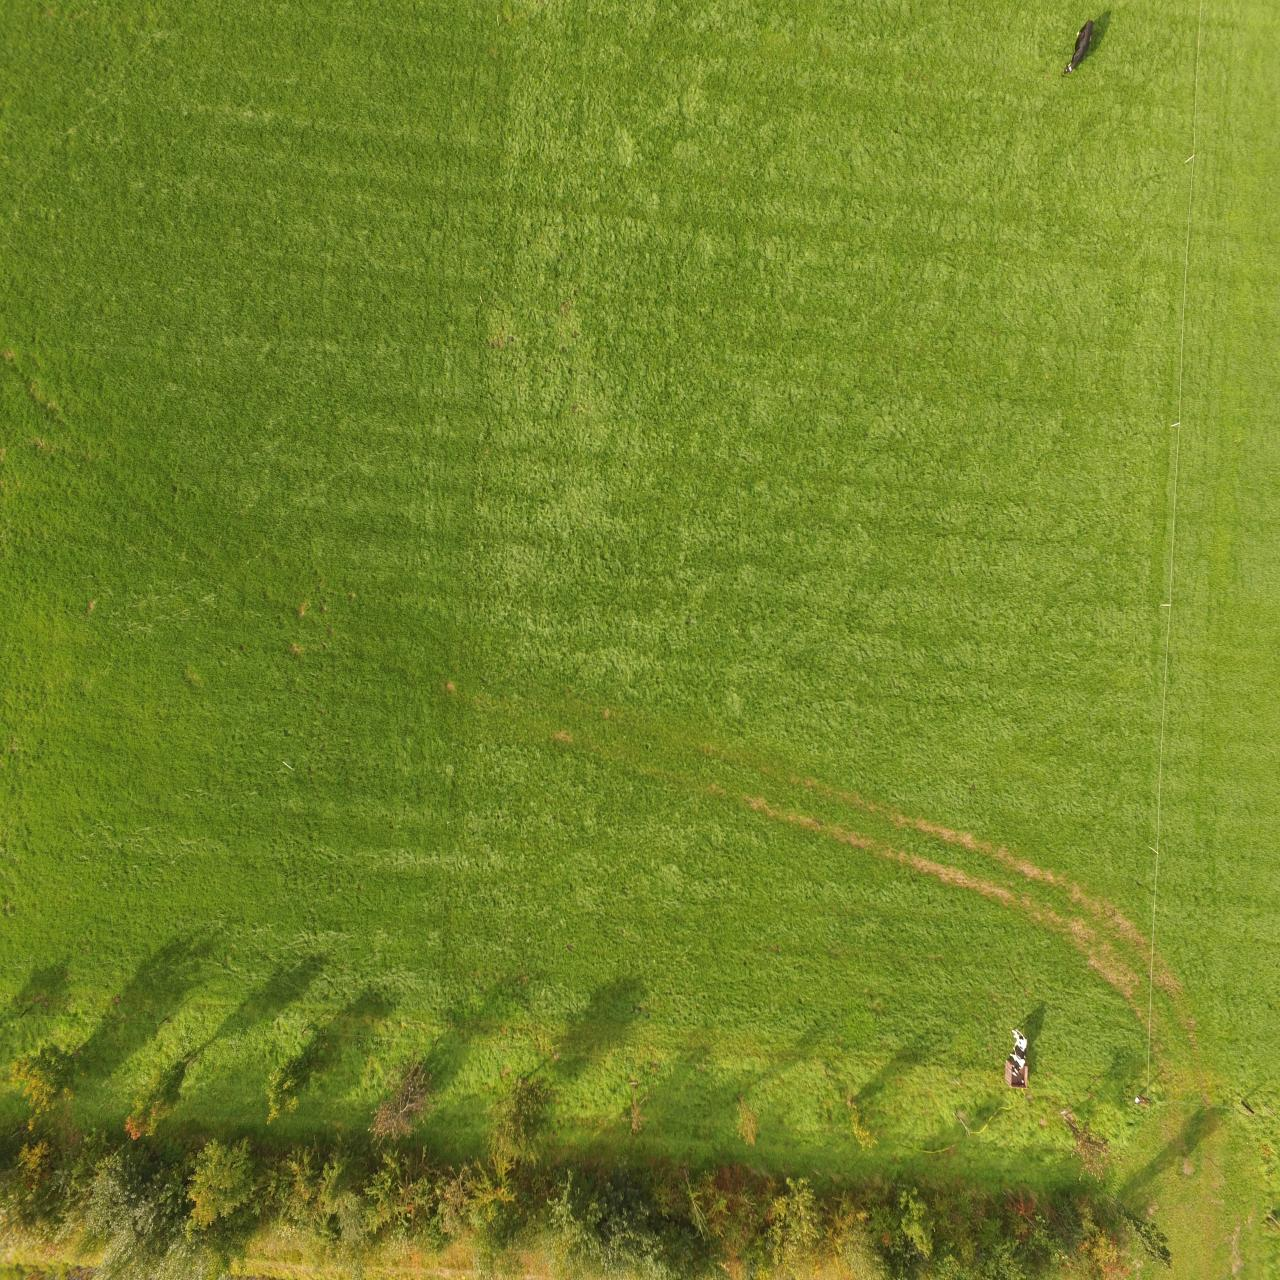cow: (1061, 18, 1092, 77), (1008, 1028, 1028, 1076)
